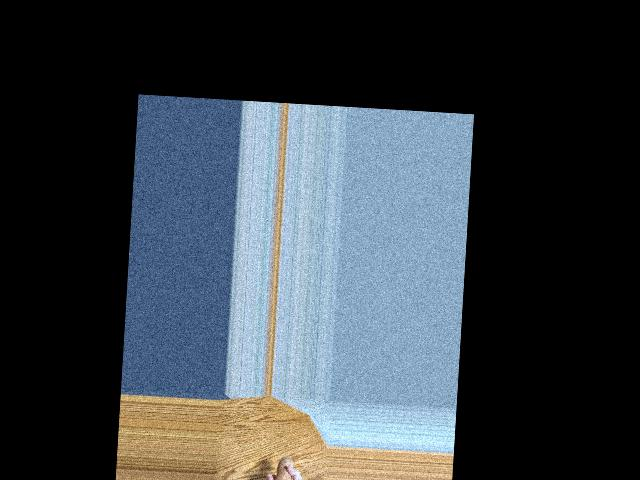sweet_potato: (270, 457, 293, 480)
